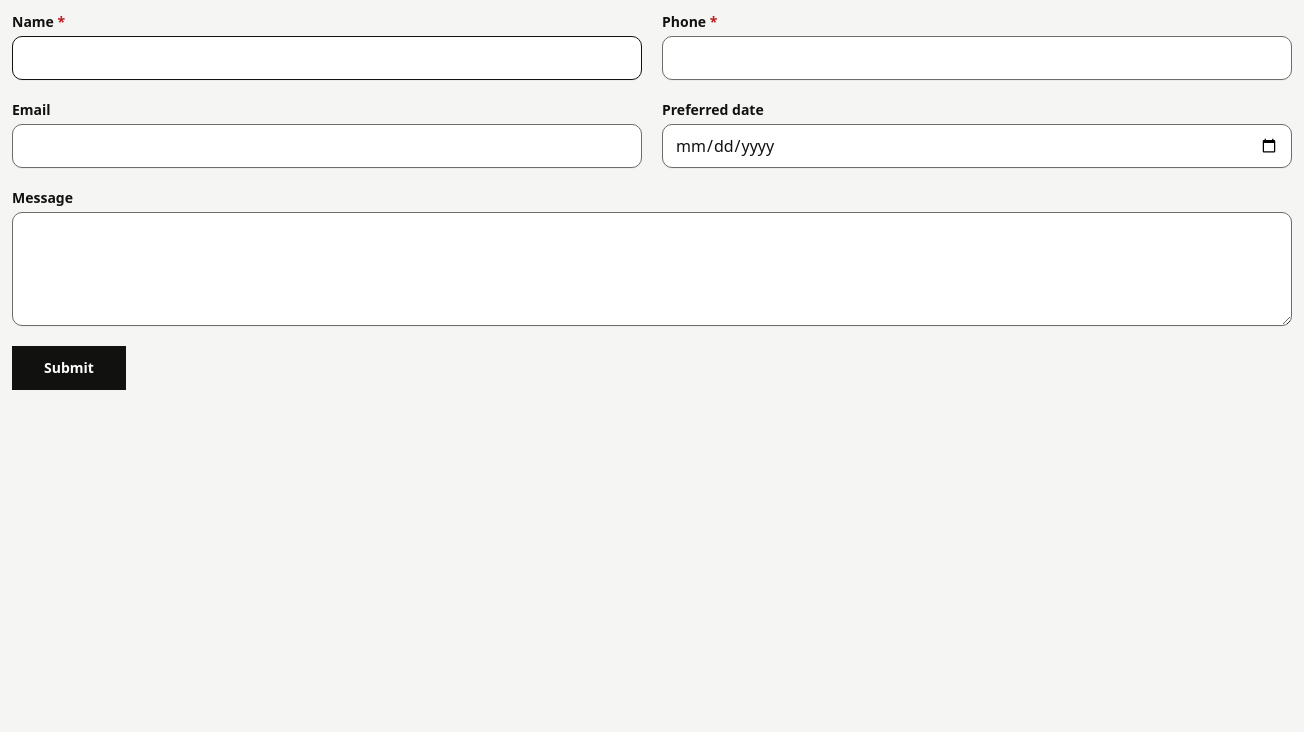
Test case: ViewingForm (F7, SC-4, SC-5, SC-6, E1) › submits a valid request, shows the success toast and clears the form (SC-4)
The width and height of the screenshot is (1304, 732).
In the field labelled "Name *": (327, 58) [12,36,642,80], type "Juan Dela Cruz"
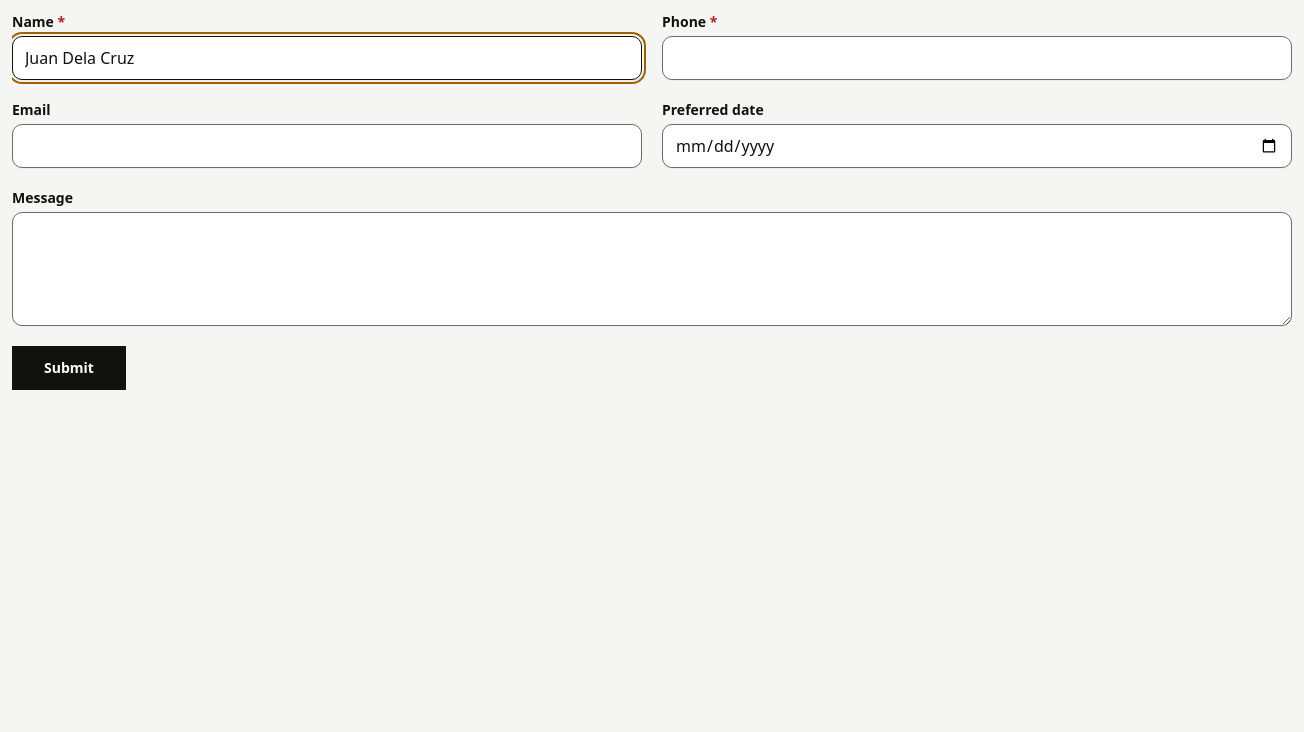
In the field labelled "Phone *": (977, 58) [662,36,1292,80], type "0917 123 4567"
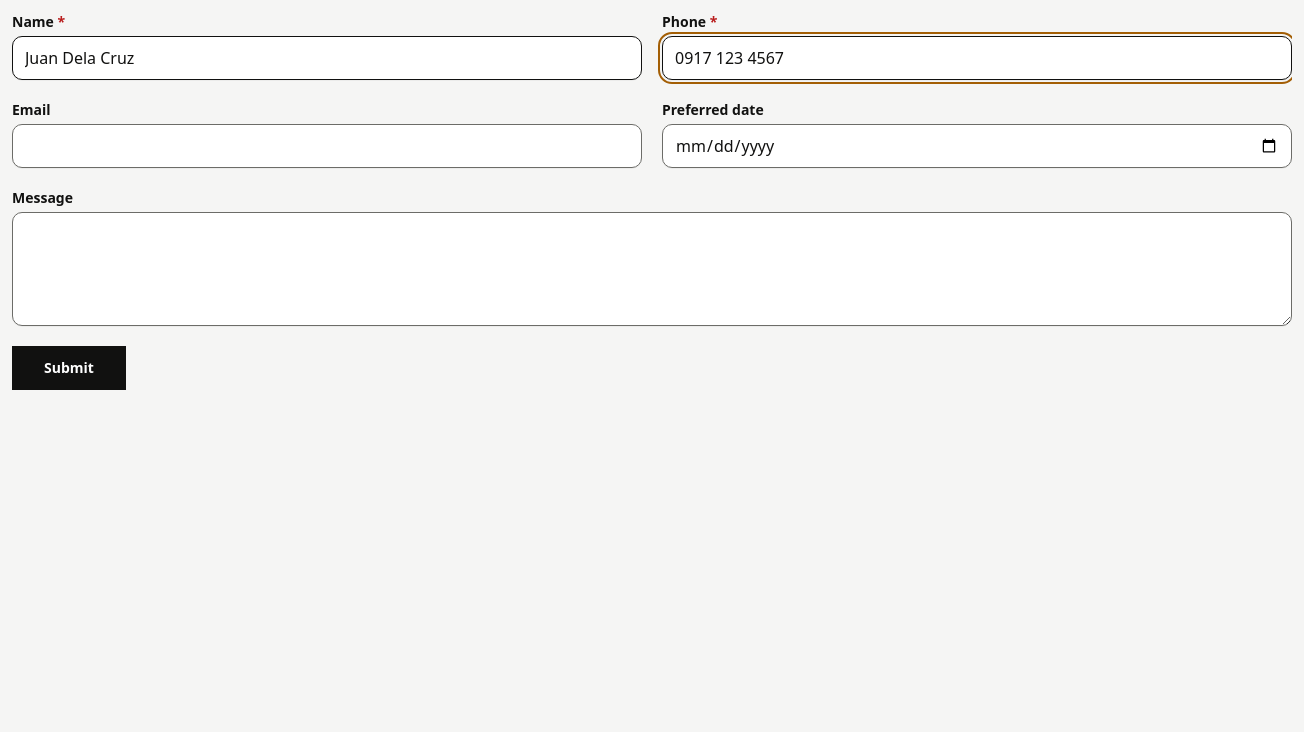
In the field labelled "Email": (327, 146) [12,124,642,168], type "juan@example.com"
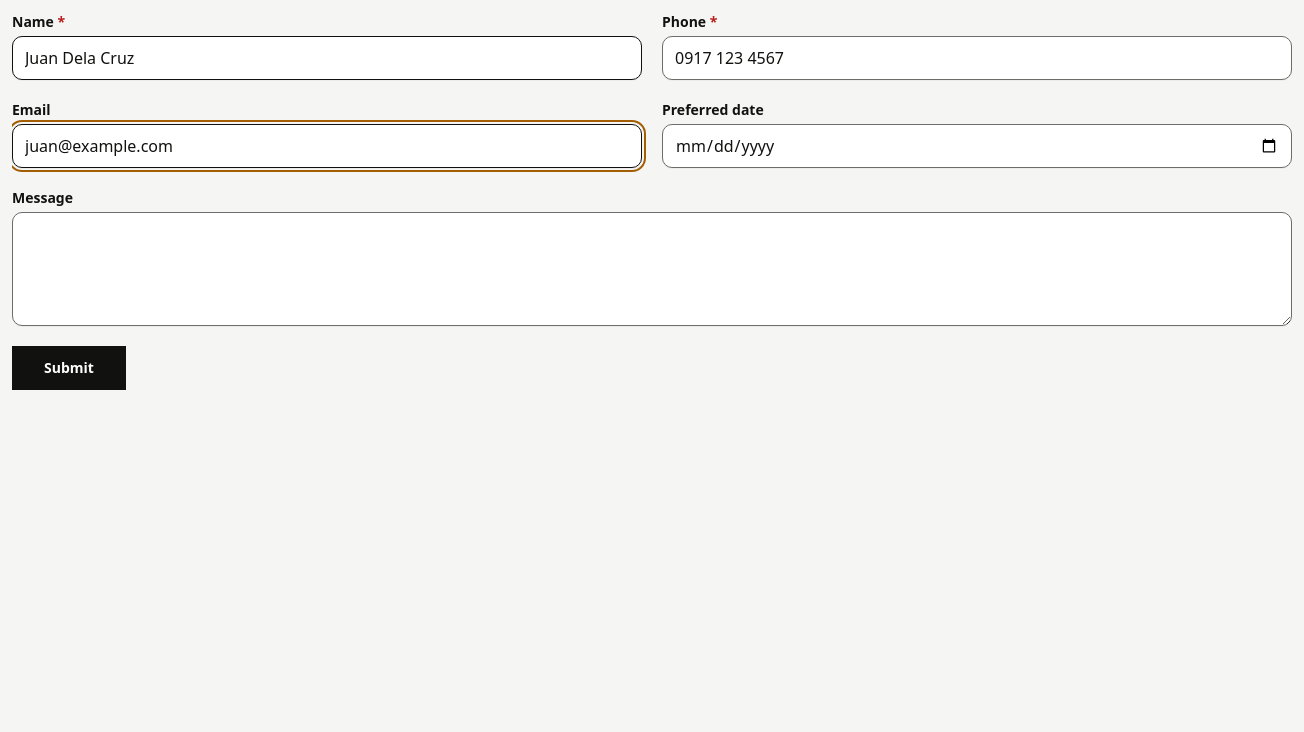
In the text box labelled "Message": (652, 269) [12,212,1292,326], type "Can I visit Saturday?"
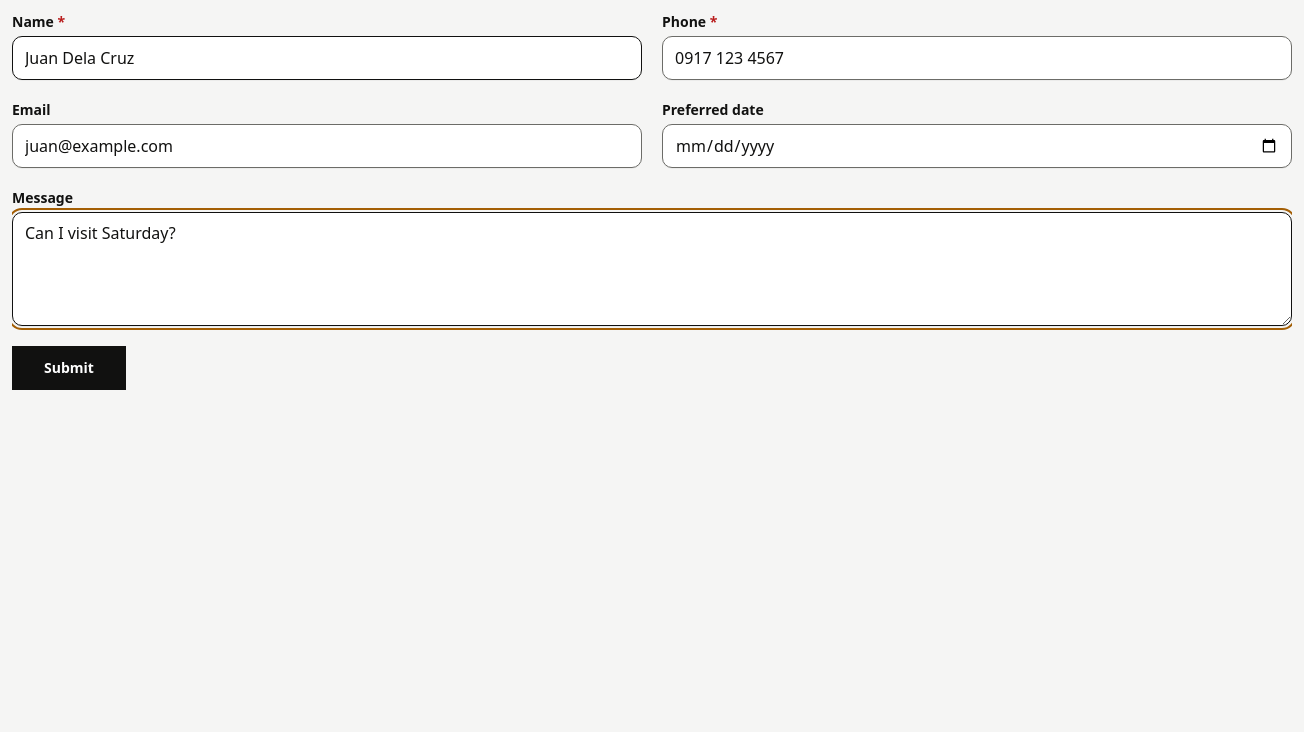
Click the button "Submit": (69, 368) [12,346,126,390]
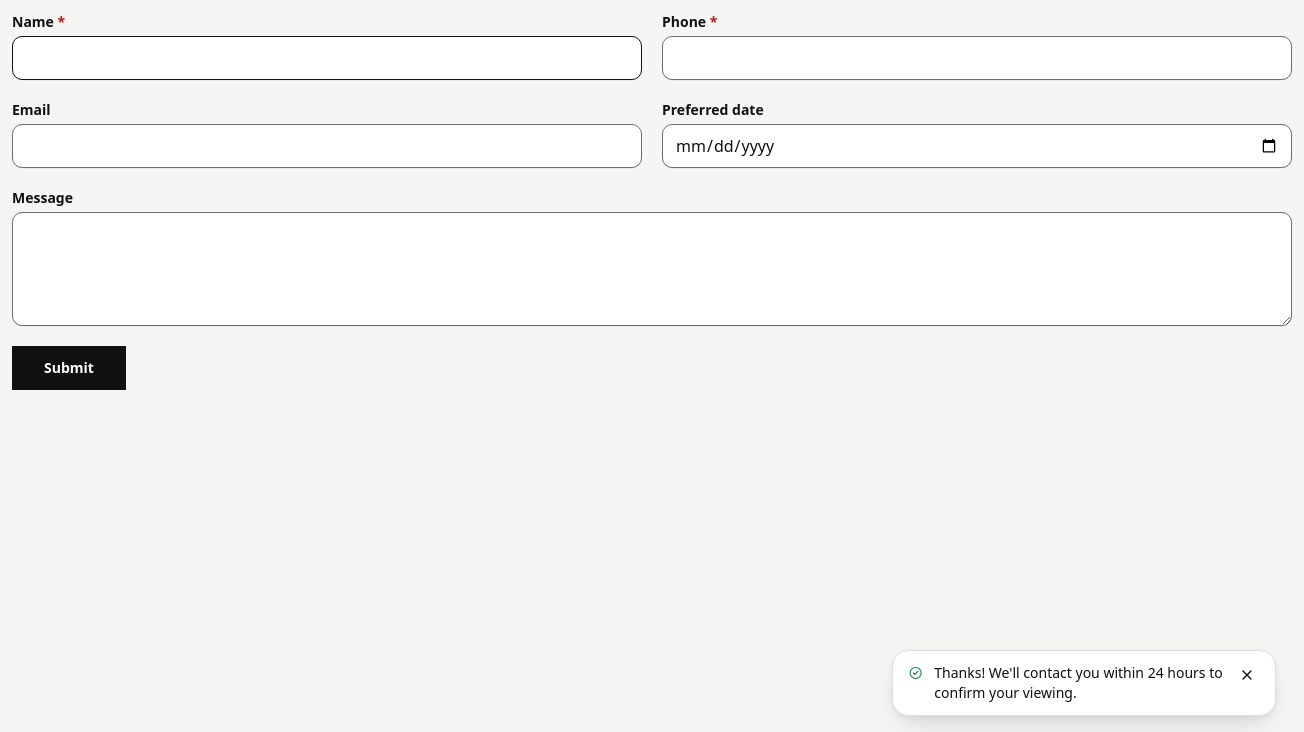
Now the text "Thanks! We'll contact you within 24 hours" is shown, box [934,663,1223,702]
Now the field labelled "Name *" is empty, box [12,36,642,80]
